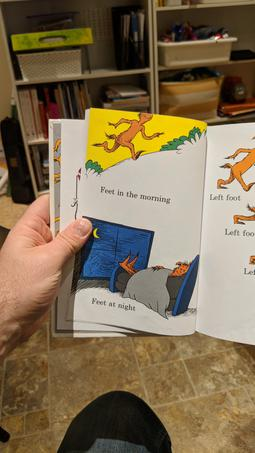text block: (96, 183, 177, 203), (85, 293, 138, 314), (205, 190, 246, 205), (220, 222, 255, 239), (240, 263, 255, 276)
